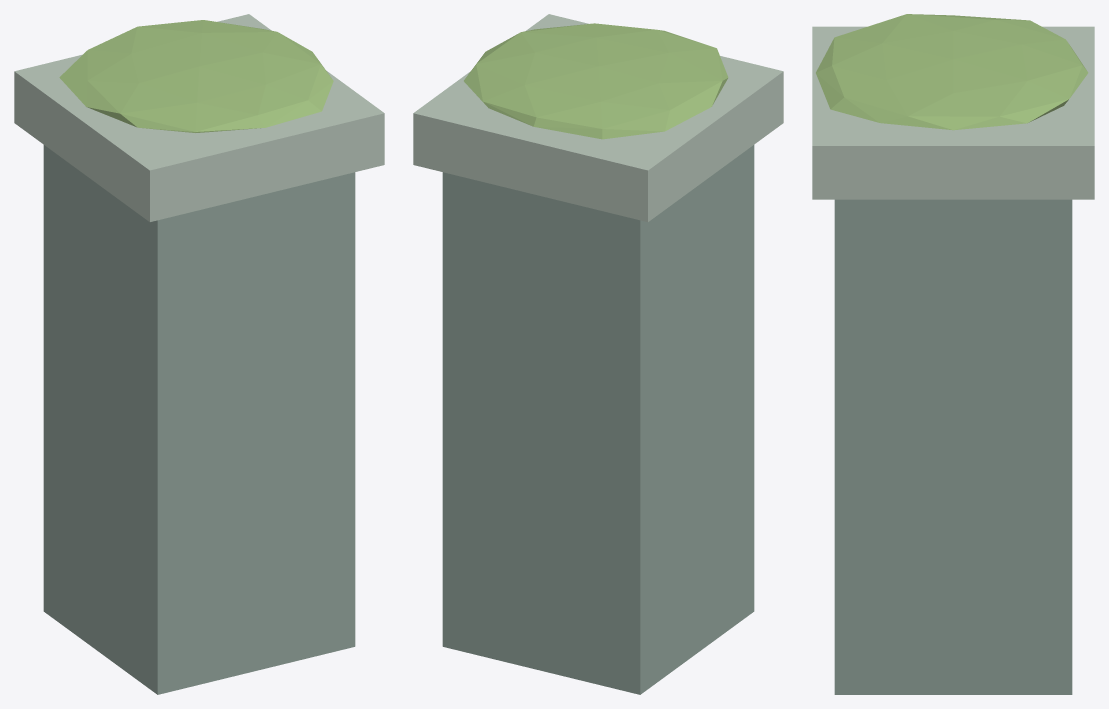
File: wall-end-mossy.glb
The picture shows the model from 3 angles, left to right: view 1: azimuth 30°, elevation 25°; view 2: azimuth 150°, elevation 25°; view 3: azimuth 270°, elevation 25°; orthographic projection. The views are drawn at different scales.
Parts seen in each view (by area): view 1: wall-end-kit-mossy-stone, wall-end-kit-mossy-light, wall-end-kit-mossy-top; view 2: wall-end-kit-mossy-stone, wall-end-kit-mossy-light, wall-end-kit-mossy-top; view 3: wall-end-kit-mossy-stone, wall-end-kit-mossy-light, wall-end-kit-mossy-top.
Part boxes in pixels (x1,y1,x2,y2): wall-end-kit-mossy-stone: [43, 145, 355, 694]; wall-end-kit-mossy-light: [14, 14, 384, 221]; wall-end-kit-mossy-top: [59, 20, 333, 132]; wall-end-kit-mossy-stone: [442, 145, 754, 694]; wall-end-kit-mossy-light: [413, 14, 783, 221]; wall-end-kit-mossy-top: [464, 23, 728, 139]; wall-end-kit-mossy-stone: [834, 199, 1072, 694]; wall-end-kit-mossy-light: [812, 26, 1094, 199]; wall-end-kit-mossy-top: [816, 14, 1088, 130].
Bounding box in the file's own units: 0.76 × 1.74 × 0.76.
